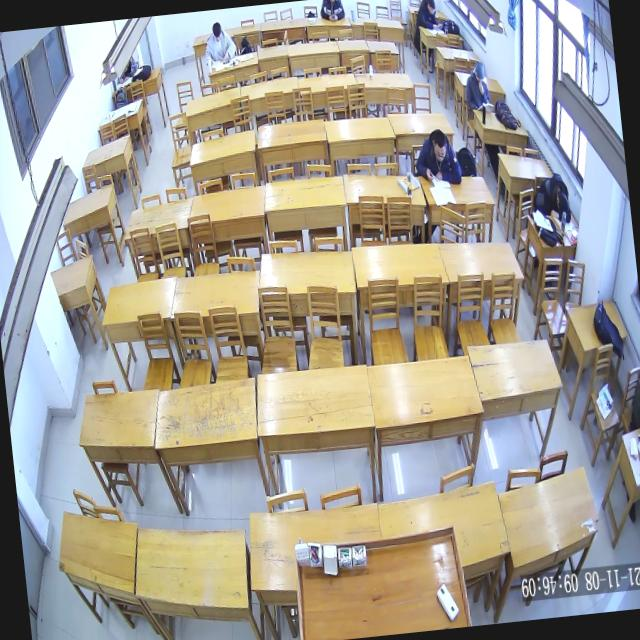bow: (412, 126, 462, 188), (534, 170, 572, 226)
down: (431, 128, 447, 162), (473, 61, 485, 82), (212, 22, 222, 42), (426, 0, 436, 15)
sit: (202, 21, 237, 66), (462, 60, 491, 111), (414, 0, 442, 32)
